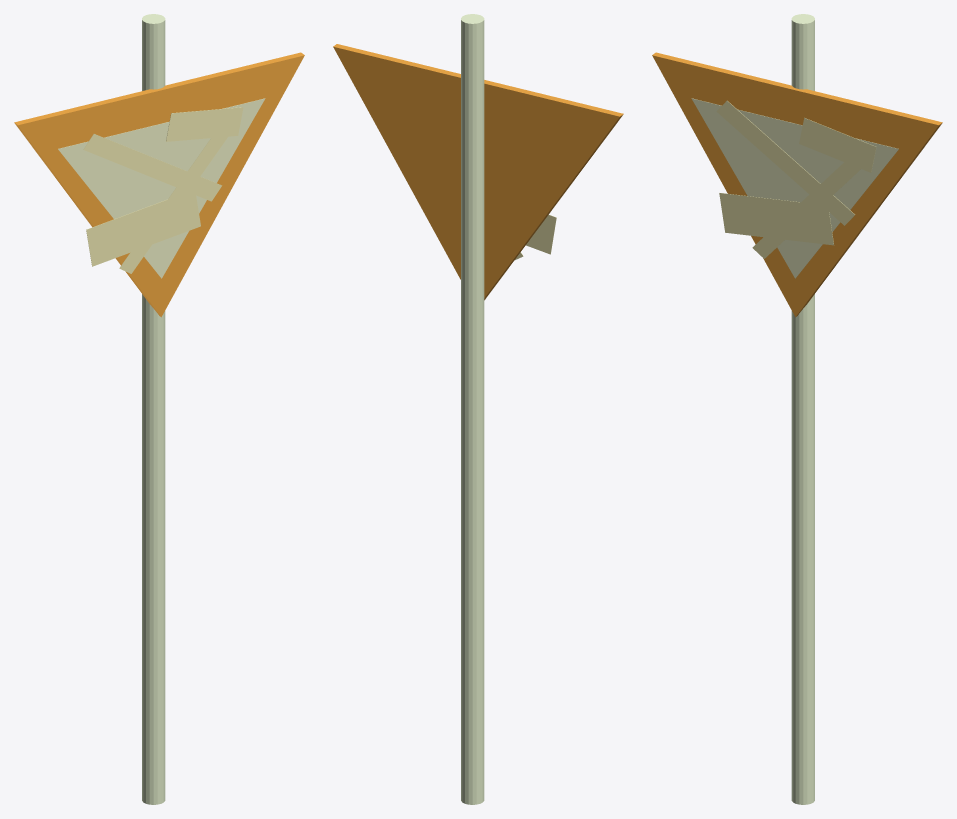
File: sign_yield_weathered_heavy.glb
3 views of the same model, side by side, from view 1: azimuth 30°, elevation 25°; view 2: azimuth 150°, elevation 25°; view 3: azimuth 330°, elevation 25° (orthographic).
Parts seen in each view (by area): view 1: plate_base_00, pole, layer_1_00, layer_2_00, layer_2_02, layer_2_03, layer_2_01; view 2: plate_base_00, pole, layer_2_00; view 3: plate_base_00, pole, layer_1_00, layer_2_00, layer_2_02, layer_2_01, layer_2_03.
Boxes of the visible parts, x1,y1,x2,y2 form: plate_base_00: (14,52,304,317); pole: (142,14,165,804); layer_1_00: (58,98,265,278); layer_2_00: (86,191,200,266); layer_2_02: (83,134,221,201); layer_2_03: (119,122,234,273); layer_2_01: (166,107,243,141); plate_base_00: (333,44,623,300); pole: (461,14,484,804); layer_2_00: (526,215,556,254); plate_base_00: (652,52,942,317); pole: (791,14,814,804); layer_1_00: (691,98,898,278); layer_2_00: (719,193,833,245); layer_2_02: (716,100,854,225); layer_2_01: (799,118,876,172); layer_2_03: (752,152,867,258).
Bounding box in the file's own units: 0.846 × 2.2 × 0.0725.
